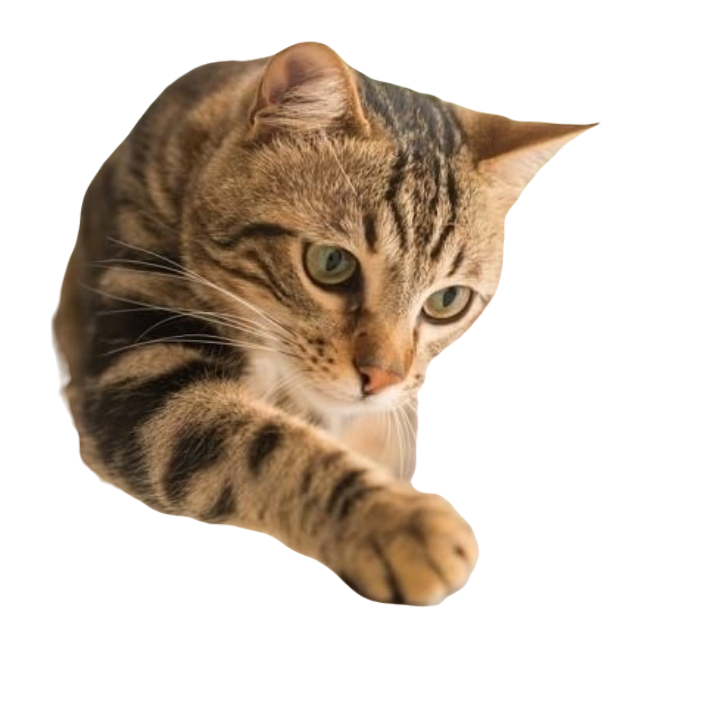Cat: (44, 45, 619, 607)
